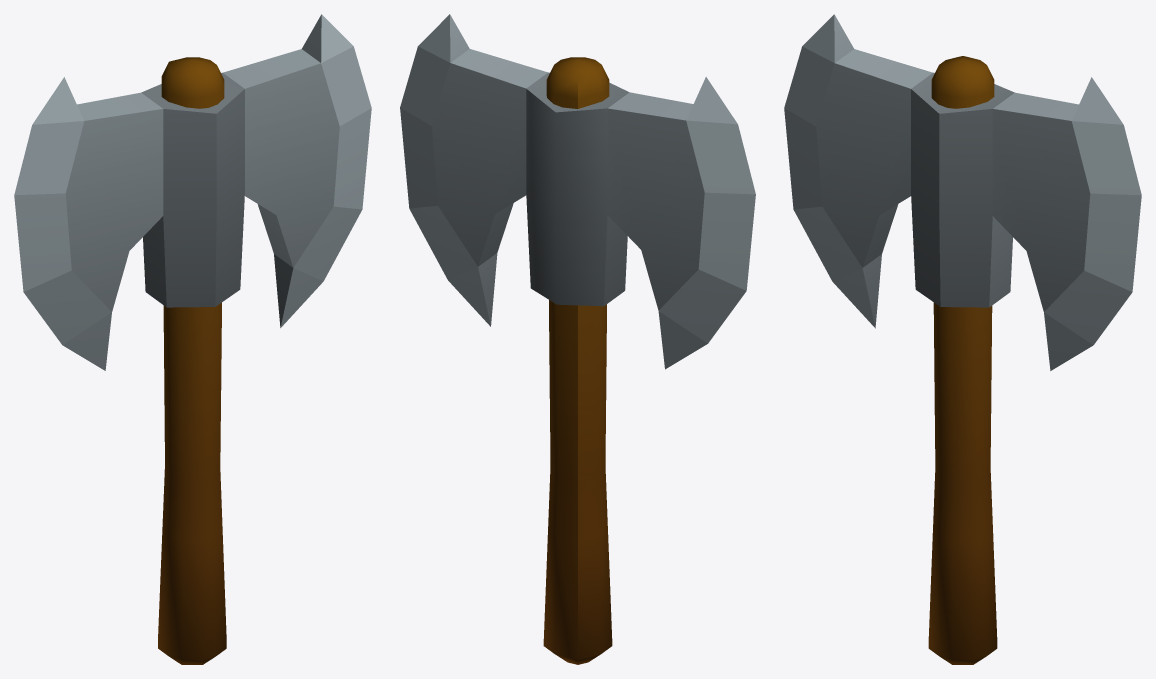
The model's file is SM_Wep_Ax.fbx.
3 views of the same model, side by side, from view 1: azimuth 30°, elevation 25°; view 2: azimuth 150°, elevation 25°; view 3: azimuth 330°, elevation 25° (orthographic).
Parts seen in each view (by area): view 1: SM_Wep_Ax; view 2: SM_Wep_Ax; view 3: SM_Wep_Ax.
Part boxes in pixels (left/top/right/bottom): SM_Wep_Ax: left=14, top=14, right=371, bottom=664; SM_Wep_Ax: left=400, top=14, right=755, bottom=664; SM_Wep_Ax: left=784, top=14, right=1141, bottom=664.
Bounding box in the file's own units: 1.67 × 2.73 × 0.3738.
